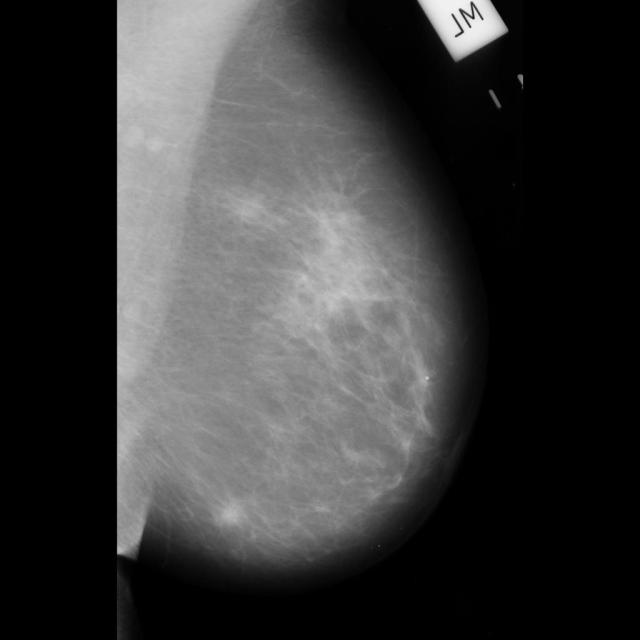tumour: (219, 506, 242, 525)
